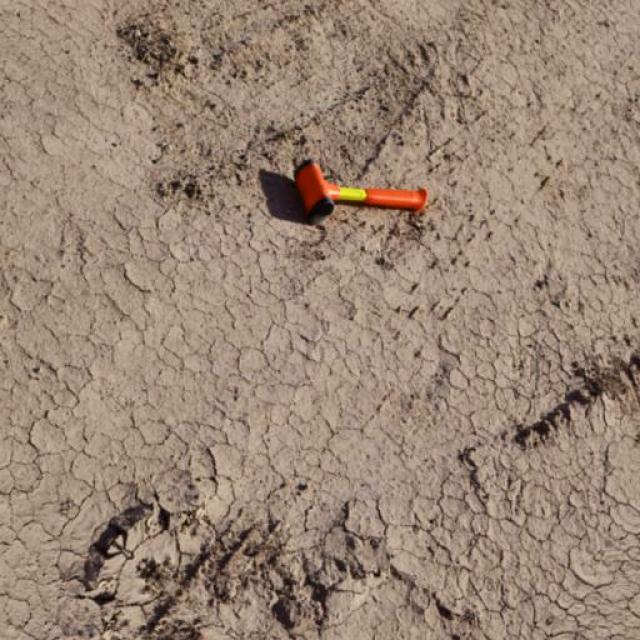mallet: (294, 158, 430, 224)
